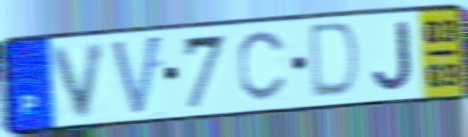7: (177, 33, 230, 111)
C: (235, 28, 290, 105)
D: (308, 19, 364, 102)
J: (371, 18, 416, 93)
V: (48, 39, 111, 121), (108, 31, 166, 120)
